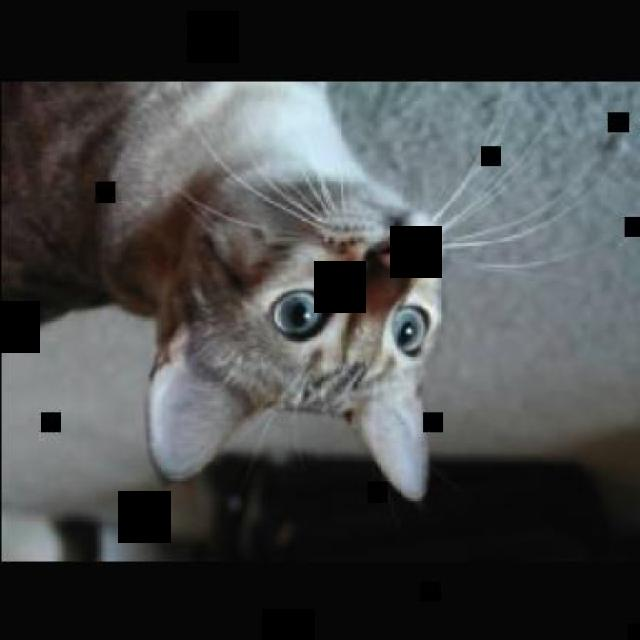unauthorized: (0, 79, 583, 503)
